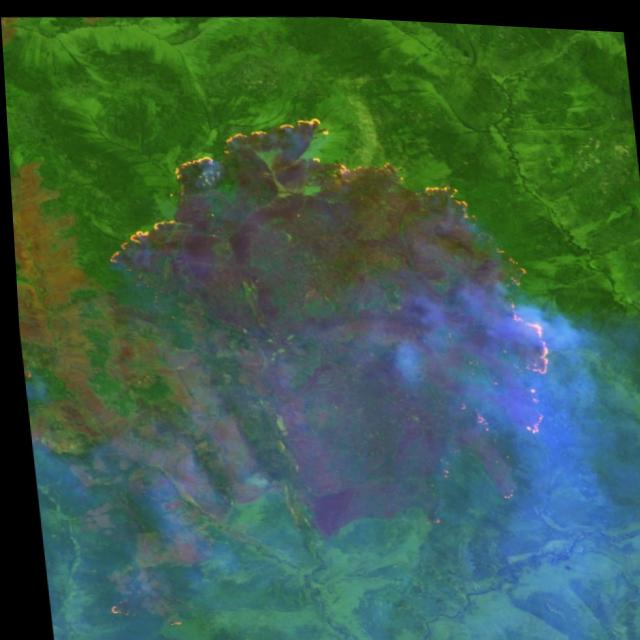fire: (74, 85, 561, 456)
